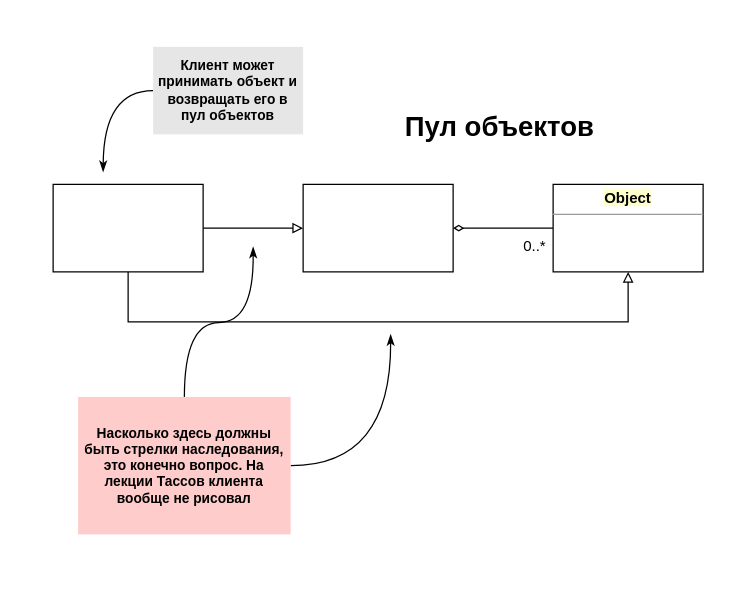
The diagram is 755 pixels wide and 593 high, and some of its shapes have lost their labels. Each missing label, with the centre of its shape:
"Client" belongs at (127,227).
"ObjectPool + get() + release(object)" belongs at (377,227).
